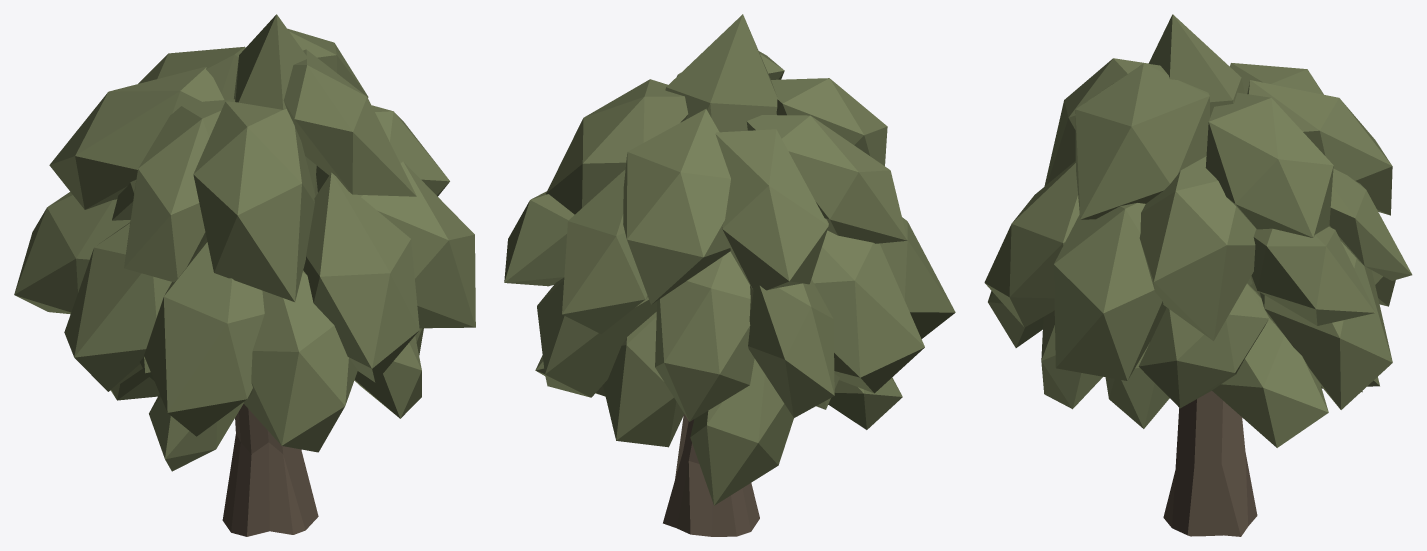
The model's file is LeafTree3.fbx.
The picture shows the model from 3 angles, left to right: view 1: azimuth 30°, elevation 25°; view 2: azimuth 150°, elevation 25°; view 3: azimuth 270°, elevation 25°; orthographic projection. The views are drawn at different scales.
Visible parts, largest first — view 1: tree; view 2: tree; view 3: tree.
Part boxes in pixels (left/top/right/bottom): tree: left=14, top=14, right=475, bottom=536; tree: left=504, top=14, right=955, bottom=536; tree: left=984, top=14, right=1412, bottom=536.
Size of the model in its own units: 619 by 840 by 648.
